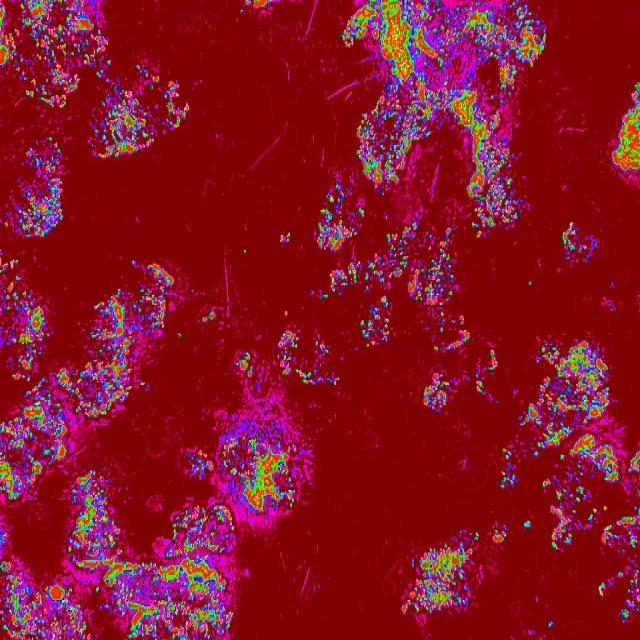fire: (340, 0, 549, 80), (85, 258, 174, 423), (526, 340, 618, 492), (94, 556, 236, 640), (0, 0, 109, 109), (0, 559, 94, 640), (462, 110, 522, 235), (380, 218, 454, 316), (224, 423, 298, 519), (24, 379, 84, 497), (0, 248, 52, 379), (9, 138, 68, 242), (402, 542, 478, 622), (356, 109, 430, 183), (164, 500, 234, 556), (314, 182, 366, 256), (89, 106, 154, 159), (64, 495, 120, 556), (542, 491, 598, 552), (378, 82, 487, 109), (609, 84, 640, 176), (596, 562, 640, 622), (322, 252, 381, 296), (0, 411, 24, 502), (601, 514, 640, 557), (559, 222, 598, 264), (432, 314, 472, 354), (161, 81, 188, 132), (424, 373, 454, 413), (274, 324, 295, 380), (294, 366, 340, 390), (108, 76, 142, 106), (185, 448, 215, 479), (359, 304, 380, 348), (83, 466, 115, 494), (500, 440, 516, 490), (235, 352, 256, 382), (490, 80, 516, 104), (136, 65, 158, 87), (625, 449, 640, 481), (473, 369, 488, 401), (197, 308, 218, 328), (238, 0, 274, 11), (312, 338, 328, 362), (382, 317, 394, 343), (54, 363, 70, 381), (492, 526, 508, 544), (487, 348, 498, 372), (276, 232, 294, 246), (514, 414, 526, 431), (0, 527, 7, 553), (375, 184, 388, 196), (174, 328, 184, 342), (471, 530, 482, 541), (77, 369, 86, 380), (524, 519, 532, 530), (527, 278, 535, 288), (546, 620, 554, 629), (242, 247, 248, 255), (283, 309, 289, 316)
